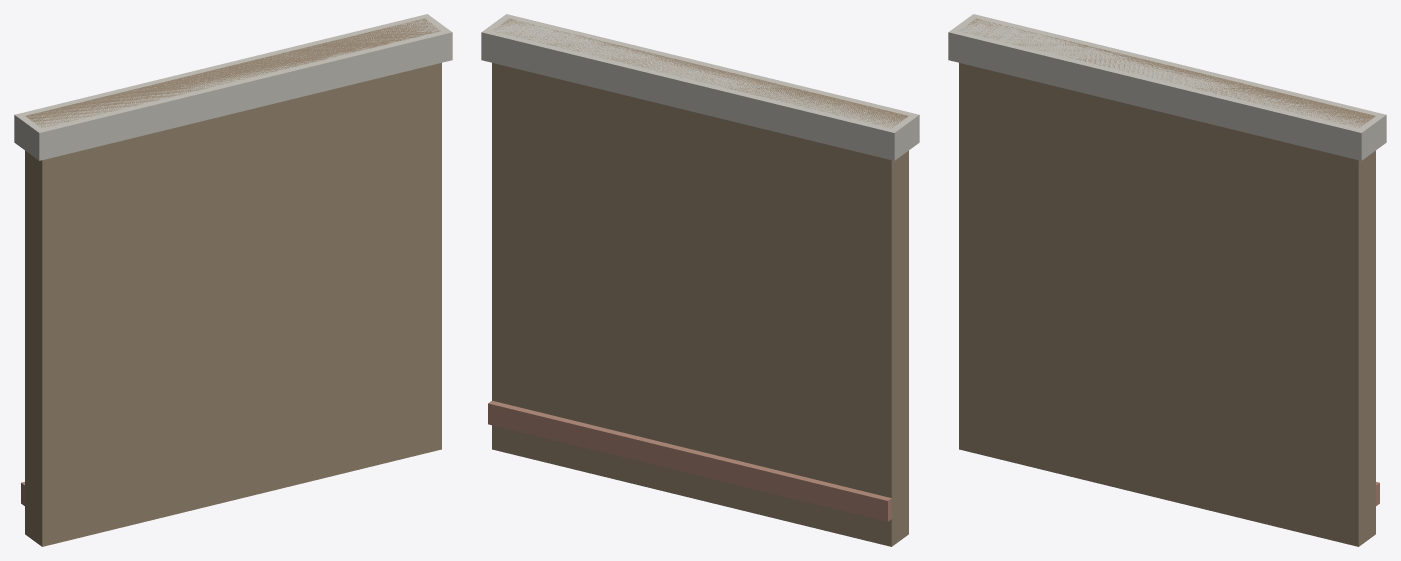
Rendered from iz3_build_defense_wood_wall_02.glb.
3 renders of one model, left to right at view 1: azimuth 30°, elevation 25°; view 2: azimuth 150°, elevation 25°; view 3: azimuth 330°, elevation 25°, orthographic.
Visible parts, largest first — view 1: wall, cornice; view 2: wall, cornice, sill; view 3: wall, cornice.
Boxes of the visible parts, bbox=[...] form: wall: bbox=[25, 18, 441, 546]; cornice: bbox=[14, 14, 452, 160]; wall: bbox=[492, 18, 908, 546]; cornice: bbox=[481, 14, 919, 160]; sill: bbox=[488, 400, 891, 521]; wall: bbox=[959, 18, 1375, 546]; cornice: bbox=[948, 14, 1386, 160].
Bounding box in the file's own units: 2.48 × 2.4 × 0.26.
